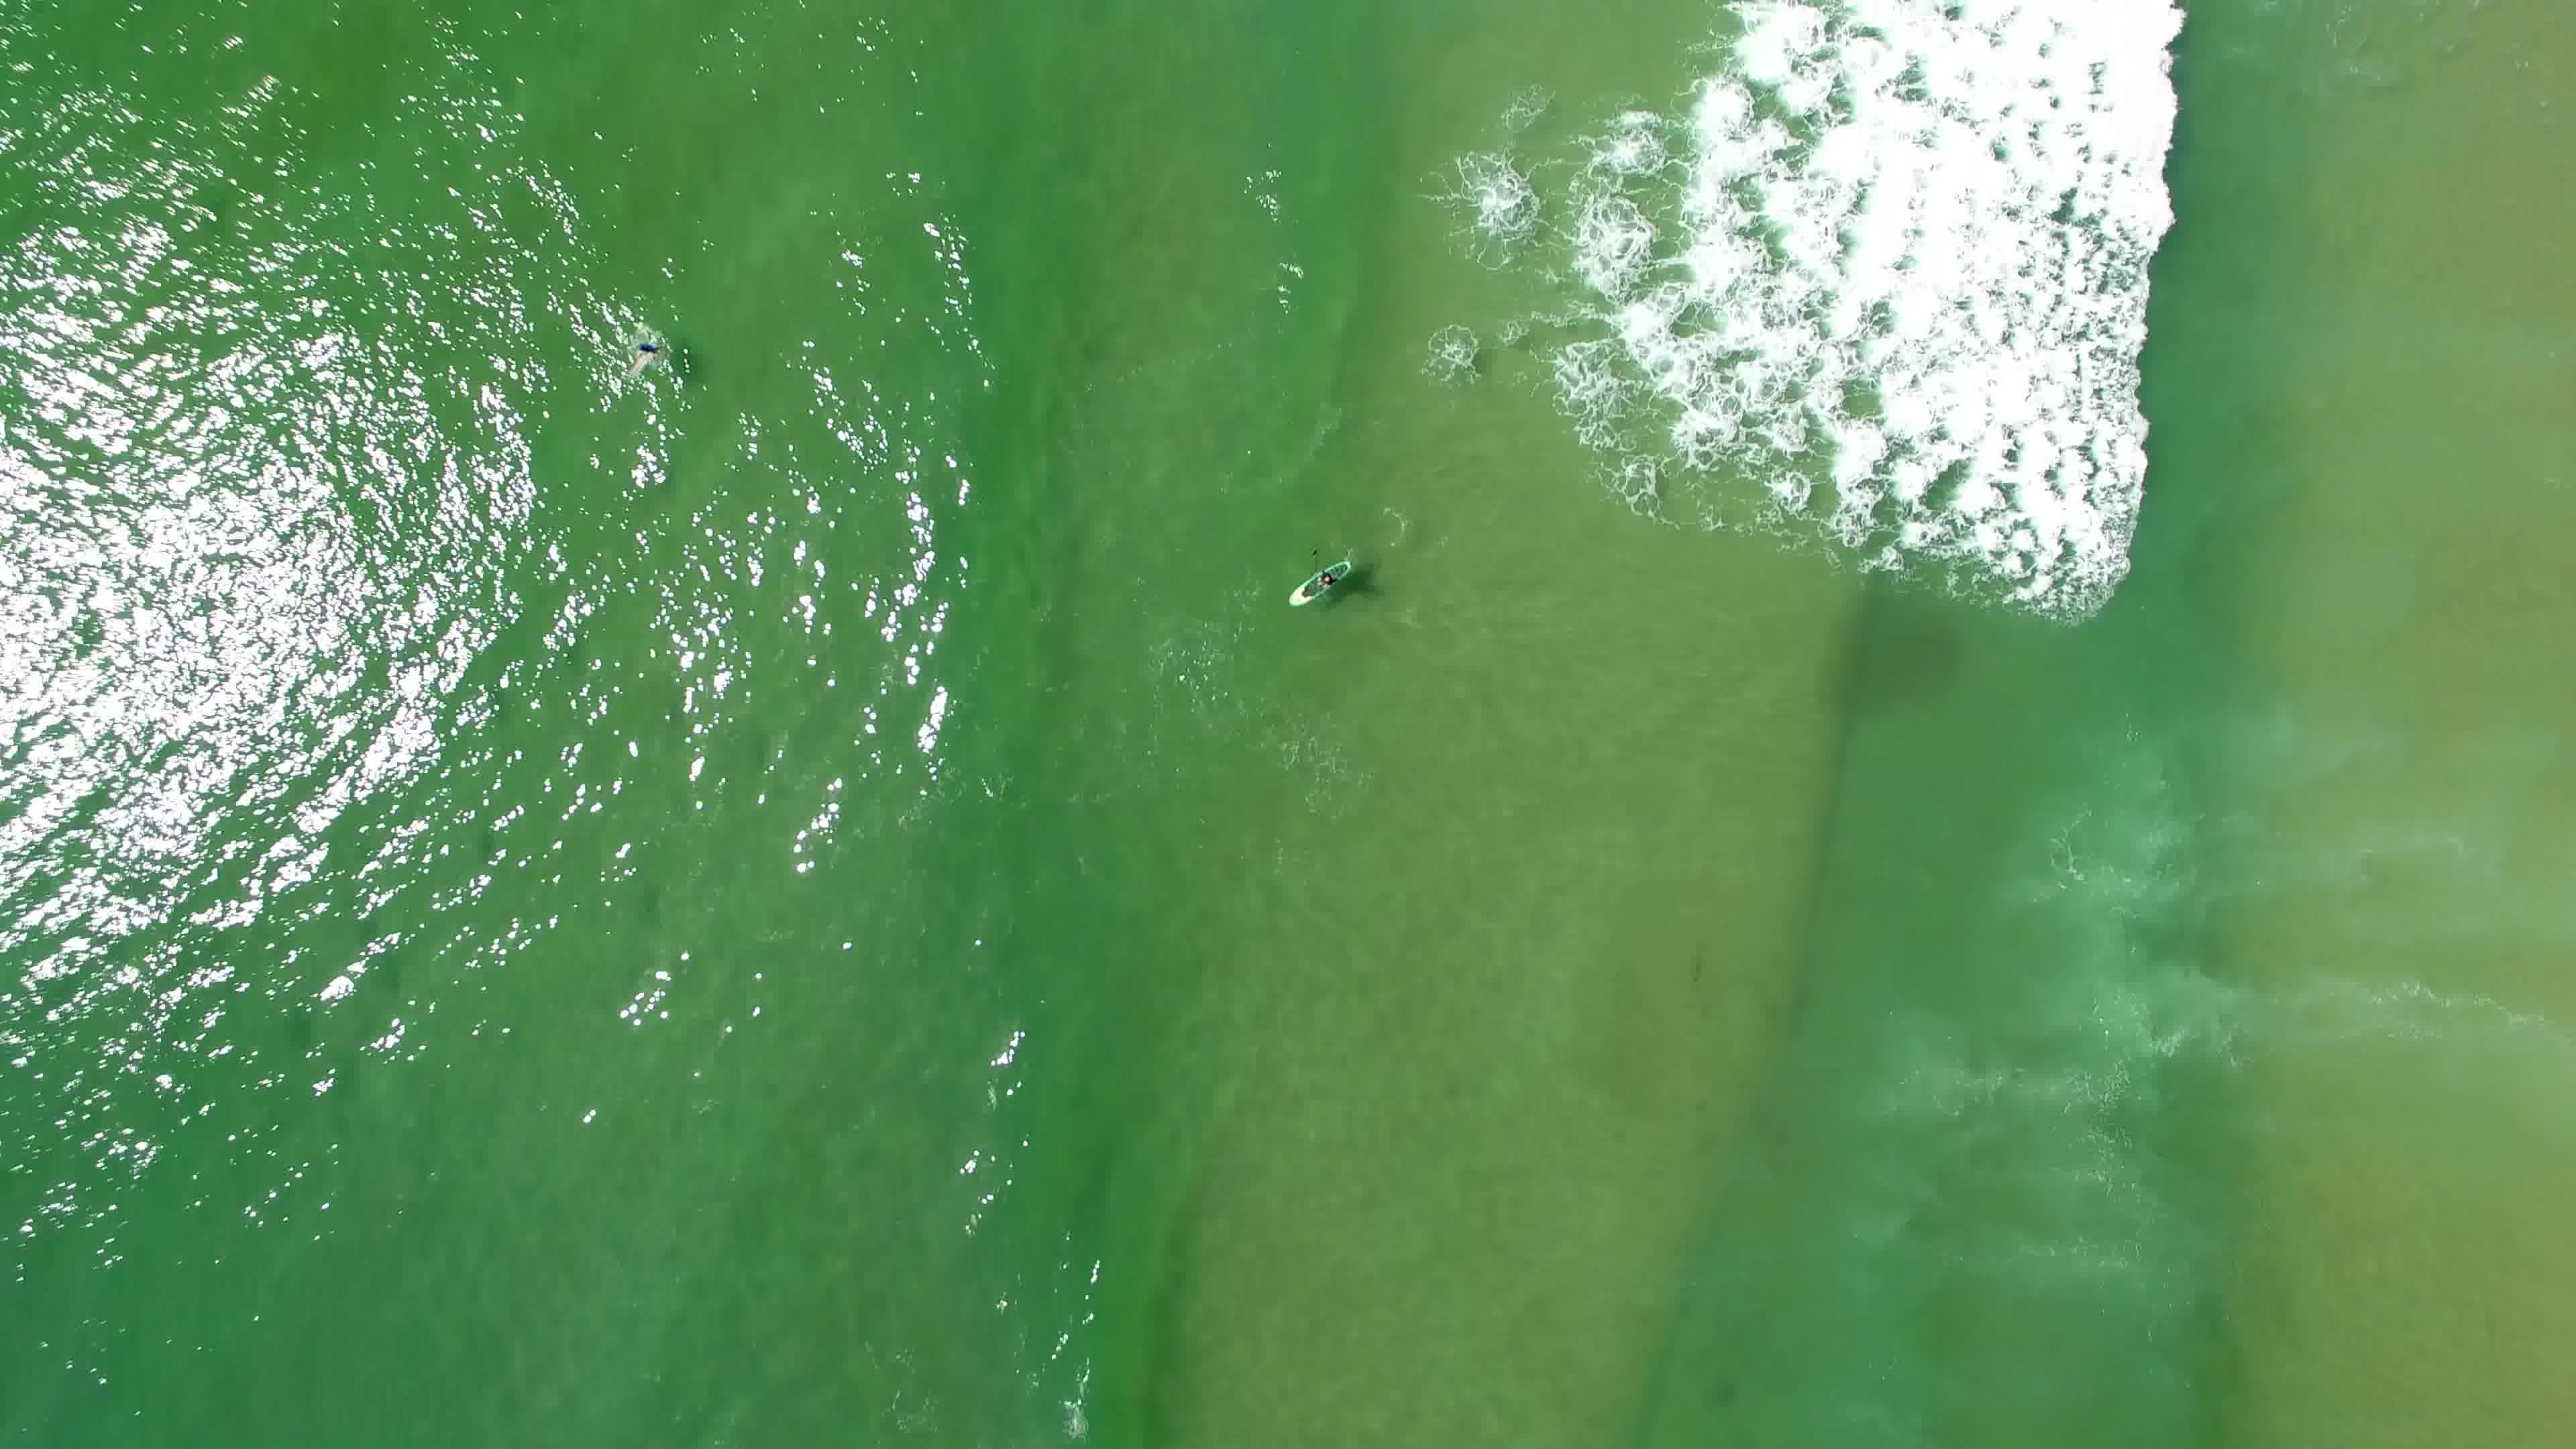surfer: (1284, 547, 1361, 621), (609, 320, 678, 386)
